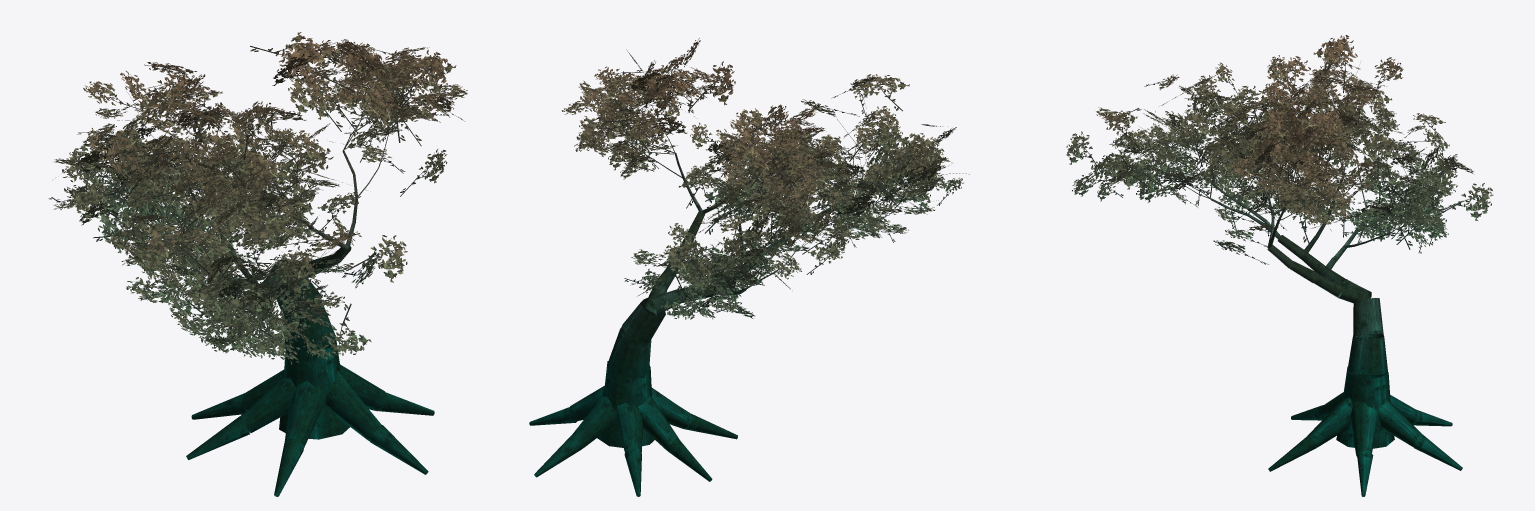
Rendered from tree_oak_gnarled_autumn.glb.
The picture shows the model from 3 angles, left to right: view 1: azimuth 30°, elevation 25°; view 2: azimuth 150°, elevation 25°; view 3: azimuth 270°, elevation 25°; orthographic projection. The views are drawn at different scales.
Parts seen in each view (by area): view 1: tree_oak_gnarled_LOD0; view 2: tree_oak_gnarled_LOD0; view 3: tree_oak_gnarled_LOD0.
Boxes of the visible parts, x1,y1,x2,y2 form: tree_oak_gnarled_LOD0: (48,32,467,496); tree_oak_gnarled_LOD0: (529,38,969,496); tree_oak_gnarled_LOD0: (1066,35,1493,496).
Size of what is drawn, in the model's own units: 8.48 by 8.47 by 9.82.
2 materials, 2 textured.
